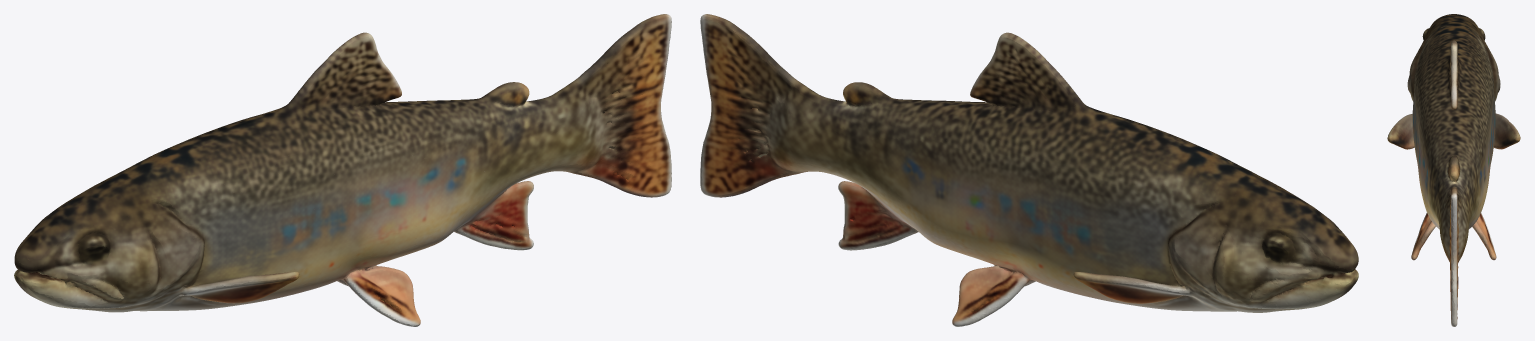
The model's file is task-4891897.glb.
3 renders of one model, left to right at view 1: azimuth 30°, elevation 25°; view 2: azimuth 150°, elevation 25°; view 3: azimuth 270°, elevation 25°, orthographic. The views are drawn at different scales.
Parts seen in each view (by area): view 1: world; view 2: world; view 3: world.
Boxes of the visible parts, left/top/right/bottom form: world: left=14, top=14, right=671, bottom=326; world: left=700, top=14, right=1358, bottom=326; world: left=1387, top=14, right=1520, bottom=326.
Size of the model in its own units: 0.35 by 0.143 by 0.0832.
1 material, 1 textured.
